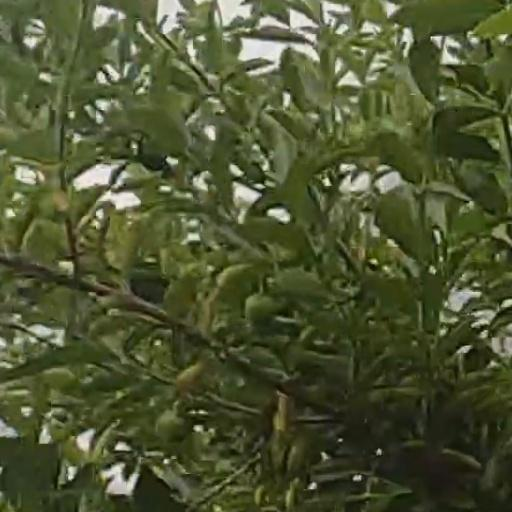acerola: (244, 294, 275, 322), (157, 411, 187, 438)
